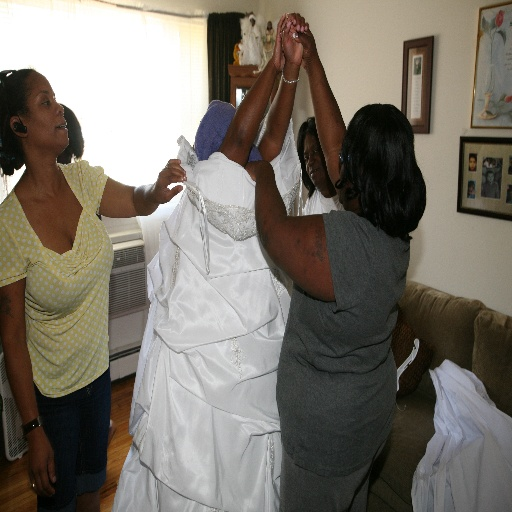hand: (134, 152, 183, 205), (25, 432, 57, 500), (280, 12, 310, 63), (293, 21, 318, 69), (269, 11, 287, 73), (243, 159, 267, 181)
